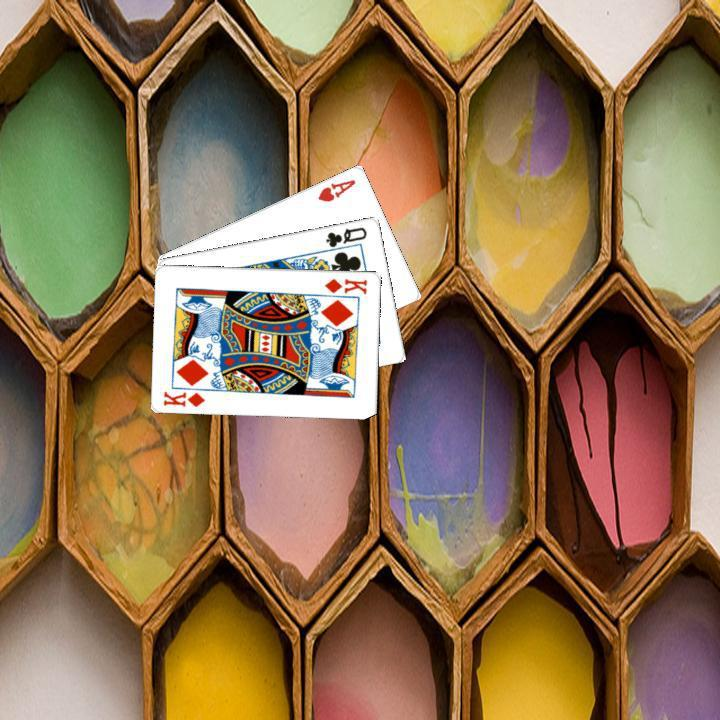A: (313, 174, 358, 203)
K: (320, 274, 369, 296), (159, 387, 207, 409)
Q: (321, 222, 369, 249)
